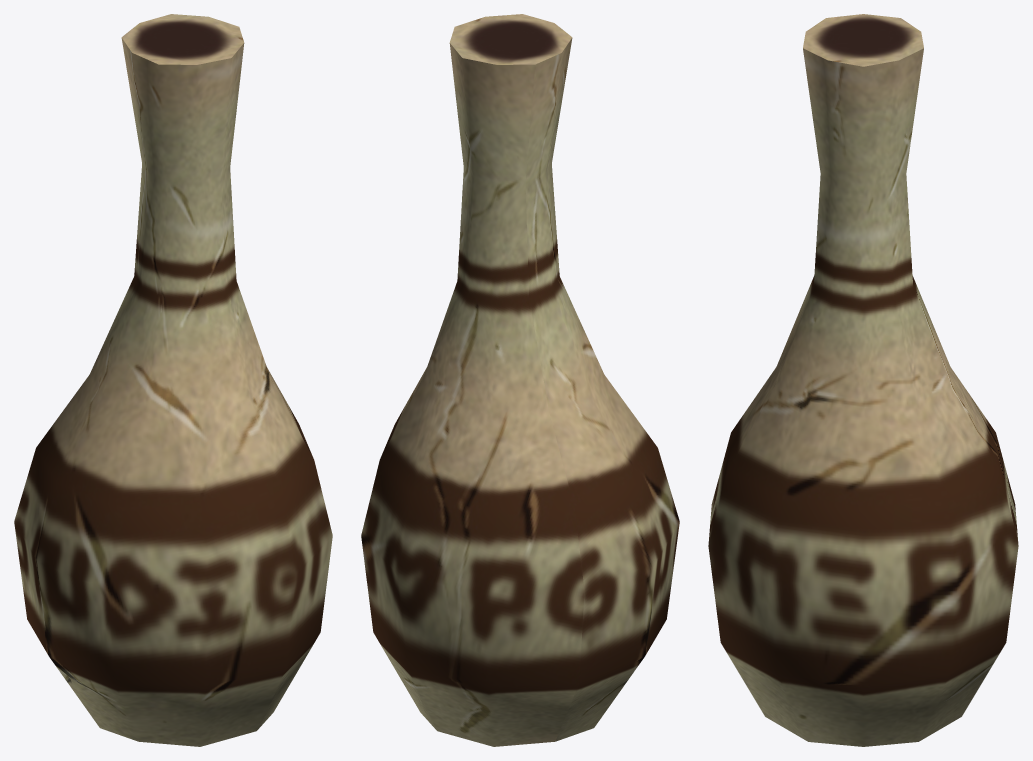
File: modelBottle01.fbx
3 renders of one model, left to right at view 1: azimuth 30°, elevation 25°; view 2: azimuth 150°, elevation 25°; view 3: azimuth 270°, elevation 25°, orthographic.
Parts seen in each view (by area): view 1: modelBottle01; view 2: modelBottle01; view 3: modelBottle01.
Part boxes in pixels (x1,y1,x2,y2): modelBottle01: [14, 14, 332, 746]; modelBottle01: [361, 14, 679, 746]; modelBottle01: [708, 14, 1018, 746].
Size of the model in its own units: 3.44 by 8.02 by 3.3.
